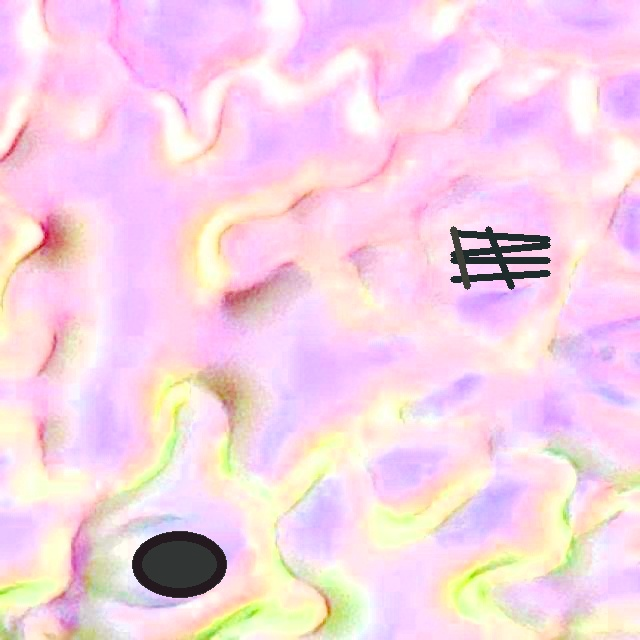close: (450, 226, 550, 289), (132, 530, 226, 597)
